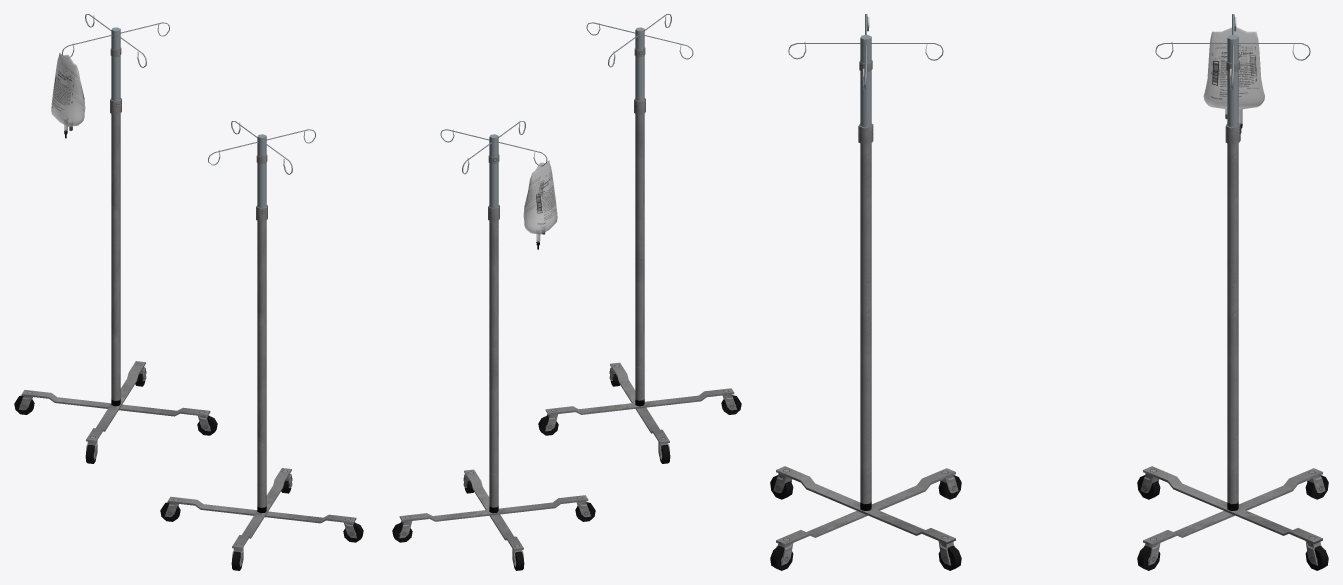
The model's file is iv_pole.glb.
3 views of the same model, side by side, from view 1: azimuth 30°, elevation 25°; view 2: azimuth 150°, elevation 25°; view 3: azimuth 270°, elevation 25° (orthographic). The views are drawn at different scales.
Parts seen in each view (by area): view 1: Object_2; view 2: Object_2; view 3: Object_2.
Boxes of the visible parts, x1,y1,x2,y2 form: Object_2: [14, 14, 363, 570]; Object_2: [392, 14, 741, 570]; Object_2: [770, 14, 1328, 570].
Size of the model in its own units: 4.18 by 11.92 by 12.18.
Materials: 1 (1 with a texture image).
